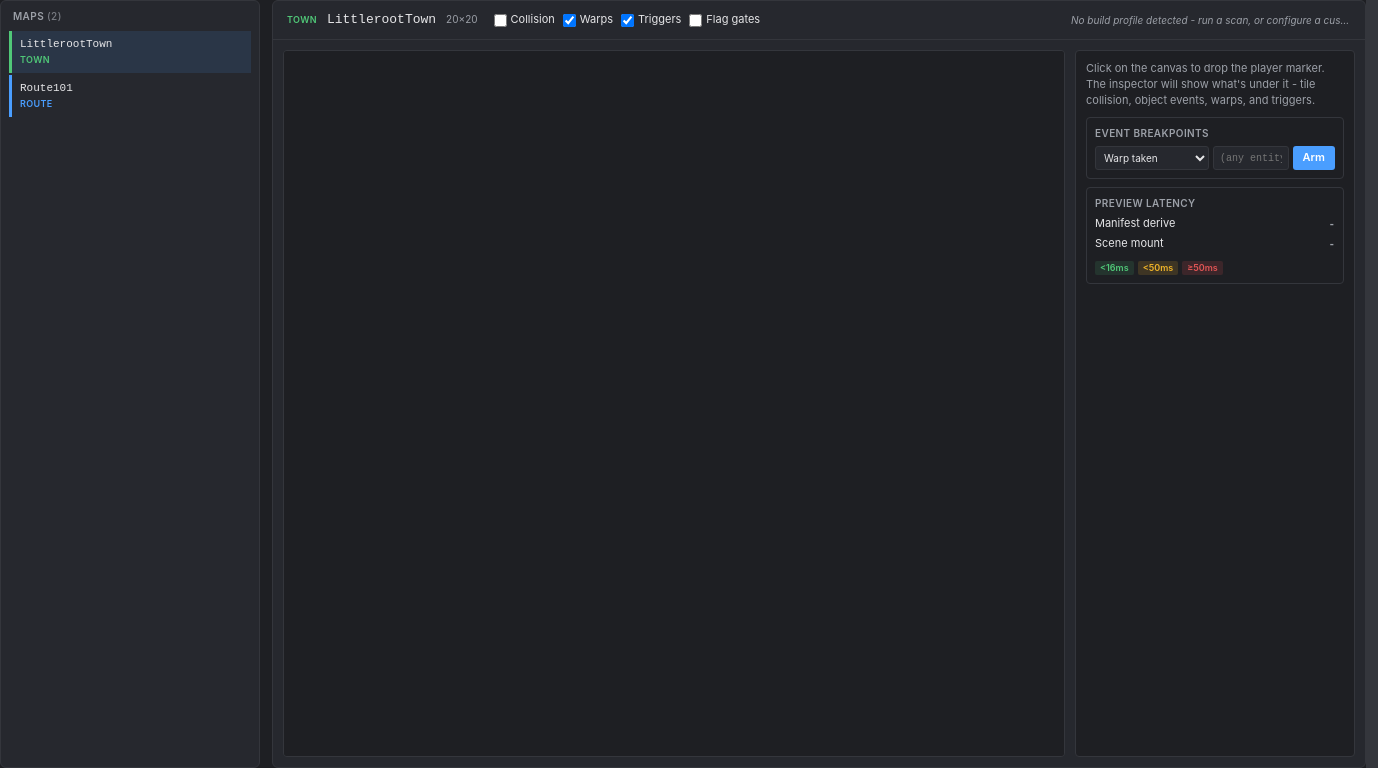
Test case: PreviewView › renders flag-gate halos when the flag_gates overlay is toggled on
Note: Toggle flag_gates on
Click the checkbox with test id "preview-overlay-flag_gates". click: [696, 20]
box: [689,14,702,27]
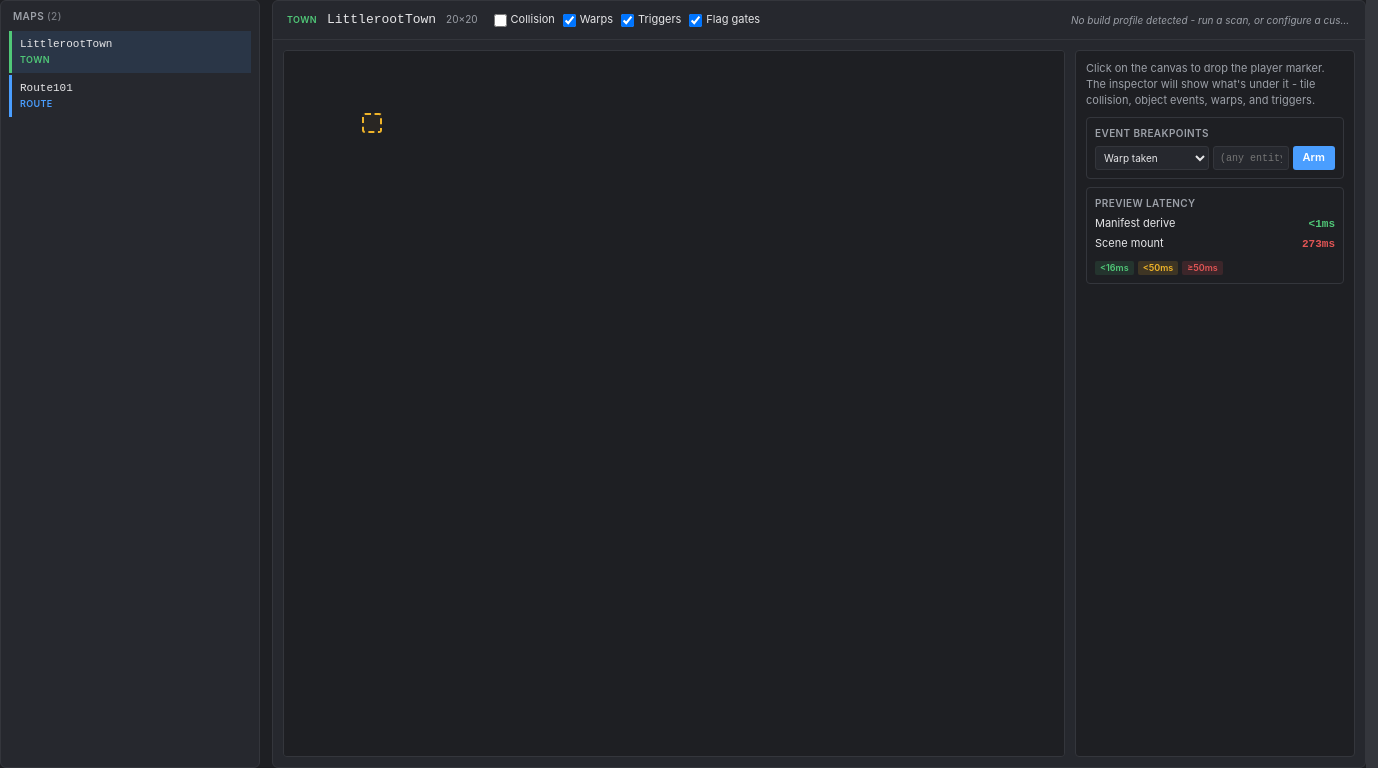
Expected: the element with test id "preview-gate-halo-objectEvent_LittlerootTown_0" is shown, [362,113,382,133]
